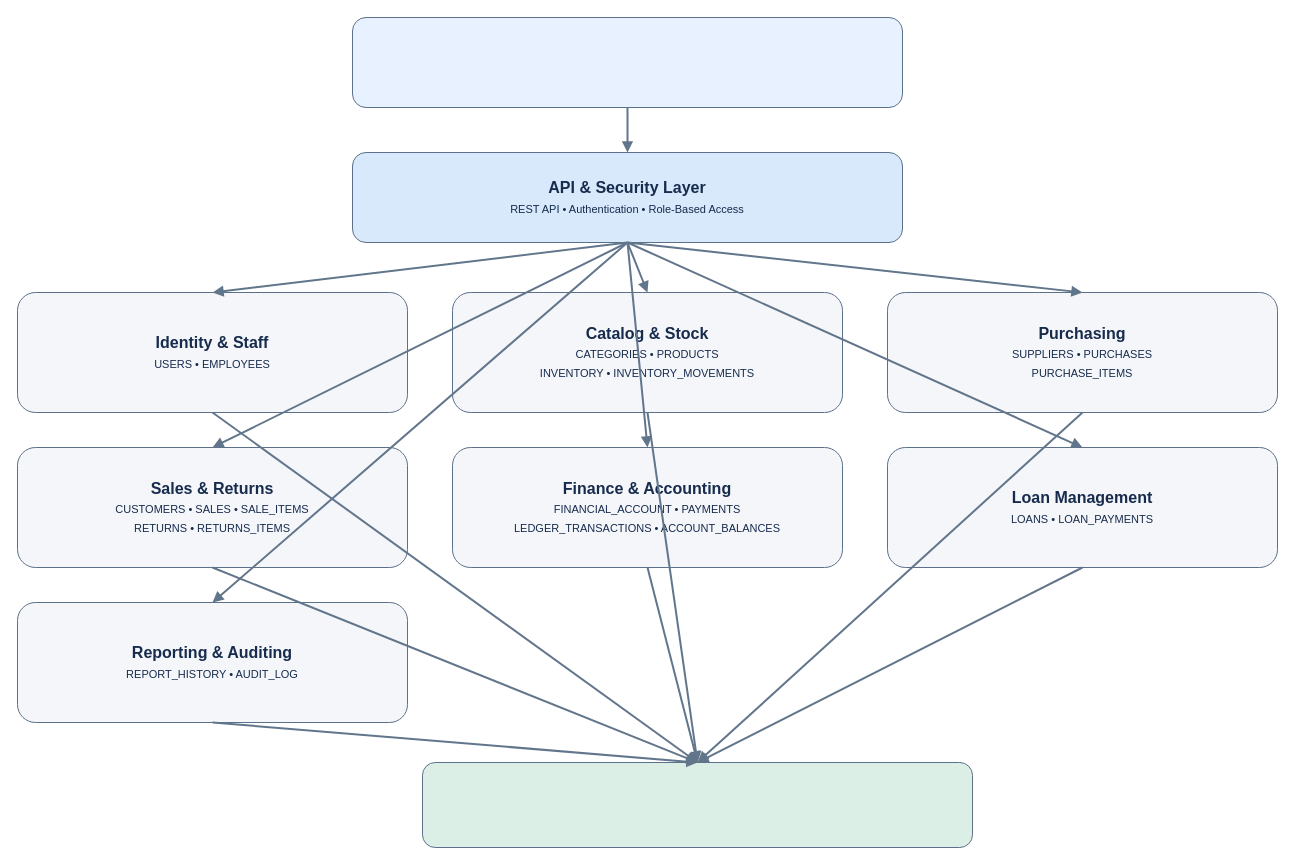
Some shapes in this 1295 by 865 pixel diagram are drawn without their labels. Each missing label, with the centre of its shape:
"Client Layer Web Admin" belongs at point 627,62.
"Relational Database Persistent storage • Foreign keys • Transactions" belongs at point 697,805.
